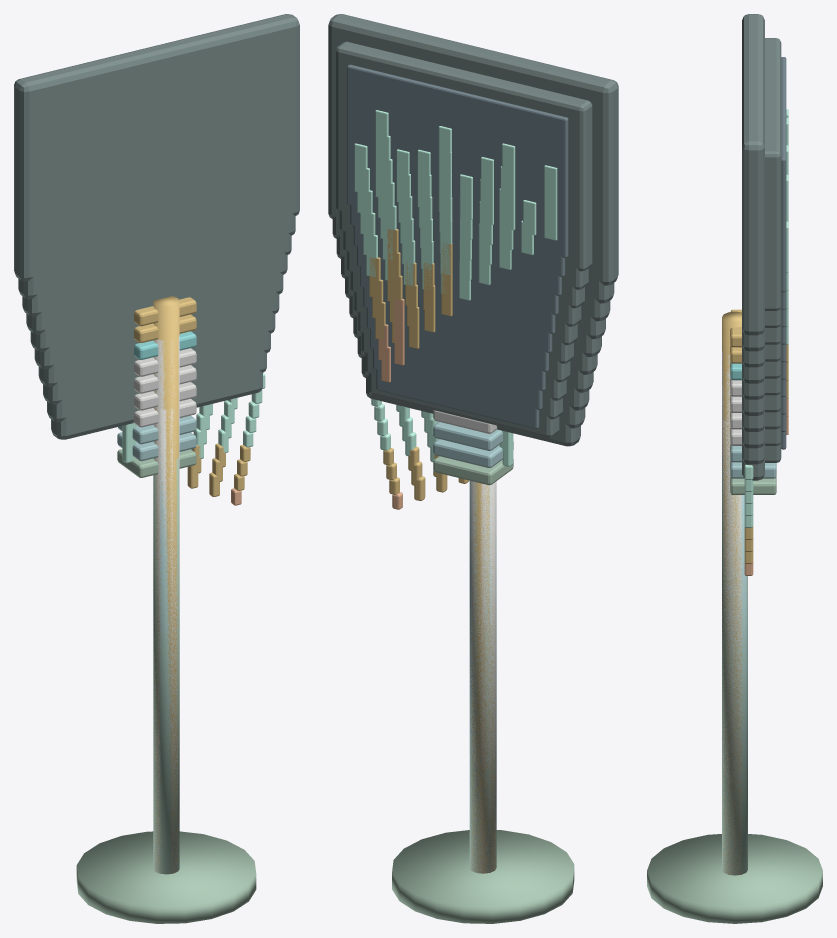
The model's file is Gear15.fbx.
3 views of the same model, side by side, from view 1: azimuth 30°, elevation 25°; view 2: azimuth 150°, elevation 25°; view 3: azimuth 270°, elevation 25° (orthographic). The views are drawn at different scales.
Parts seen in each view (by area): view 1: Gear15_V10_Ink, Gear15_V1_Sage, Gear15_V1_Ink, Gear15_V3_Ink, Gear15_V4_Ink, Gear15_V9_Ink, Gear15_V7_Ink, Gear15_V6_Ink, Gear15_V5_Ink, Gear15_V10_Gold, Gear15_V8_Ink, Gear15_V2_Ink (+12 smaller); view 2: Gear15_V10_Ink, Gear15_V10_Glass, Gear15_V1_Sage, Gear15_V1_Glass, Gear15_V5_Glass, Gear15_V10_Glow, Gear15_V2_Glass, Gear15_V10_Gold, Gear15_V7_Glow, Gear15_V4_Glass, Gear15_V8_Glow, Gear15_V9_Glow (+27 smaller); view 3: Gear15_V1_Sage, Gear15_V10_Ink, Gear15_V10_Gold, Gear15_V2_Blue, Gear15_V9_Gold, Gear15_V4_Chrome, Gear15_V5_Chrome, Gear15_V10_Glass, Gear15_V8_Chrome, Gear15_V7_Chrome, Gear15_V3_Blue, Gear15_V6_Chrome (+10 smaller).
Boxes of the visible parts, <box> form: Gear15_V10_Ink: <box>14,14,299,281</box>; Gear15_V1_Sage: <box>76,449,256,923</box>; Gear15_V1_Ink: <box>51,255,262,439</box>; Gear15_V3_Ink: <box>43,204,270,404</box>; Gear15_V4_Ink: <box>38,179,275,386</box>; Gear15_V9_Ink: <box>18,52,295,298</box>; Gear15_V7_Ink: <box>26,103,287,334</box>; Gear15_V6_Ink: <box>30,133,283,351</box>; Gear15_V5_Ink: <box>34,154,279,369</box>; Gear15_V10_Gold: <box>134,296,196,873</box>; Gear15_V8_Ink: <box>22,78,291,316</box>; Gear15_V2_Ink: <box>47,230,266,422</box>; Gear15_V10_Ink: <box>328,14,618,285</box>; Gear15_V10_Glass: <box>347,64,568,257</box>; Gear15_V1_Sage: <box>392,456,574,923</box>; Gear15_V1_Glass: <box>376,291,539,428</box>; Gear15_V5_Glass: <box>363,194,552,352</box>; Gear15_V10_Glow: <box>354,110,557,240</box>; Gear15_V2_Glass: <box>373,267,542,409</box>; Gear15_V10_Gold: <box>471,482,496,873</box>; Gear15_V7_Glow: <box>363,182,513,466</box>; Gear15_V4_Glass: <box>366,219,548,371</box>; Gear15_V8_Glow: <box>360,159,511,450</box>; Gear15_V9_Glow: <box>357,135,533,430</box>; Gear15_V1_Sage: <box>647,468,822,923</box>; Gear15_V10_Ink: <box>742,14,781,335</box>; Gear15_V10_Gold: <box>722,309,747,875</box>; Gear15_V2_Blue: <box>722,456,776,873</box>; Gear15_V9_Gold: <box>722,335,742,866</box>; Gear15_V4_Chrome: <box>723,420,741,874</box>; Gear15_V5_Chrome: <box>723,405,747,872</box>; Gear15_V10_Glass: <box>781,57,786,292</box>; Gear15_V8_Chrome: <box>722,351,742,871</box>; Gear15_V7_Chrome: <box>722,369,742,873</box>; Gear15_V3_Blue: <box>723,444,741,874</box>; Gear15_V6_Chrome: <box>722,384,741,873</box>.
Size of the model in its own units: 68 by 193 by 38.
